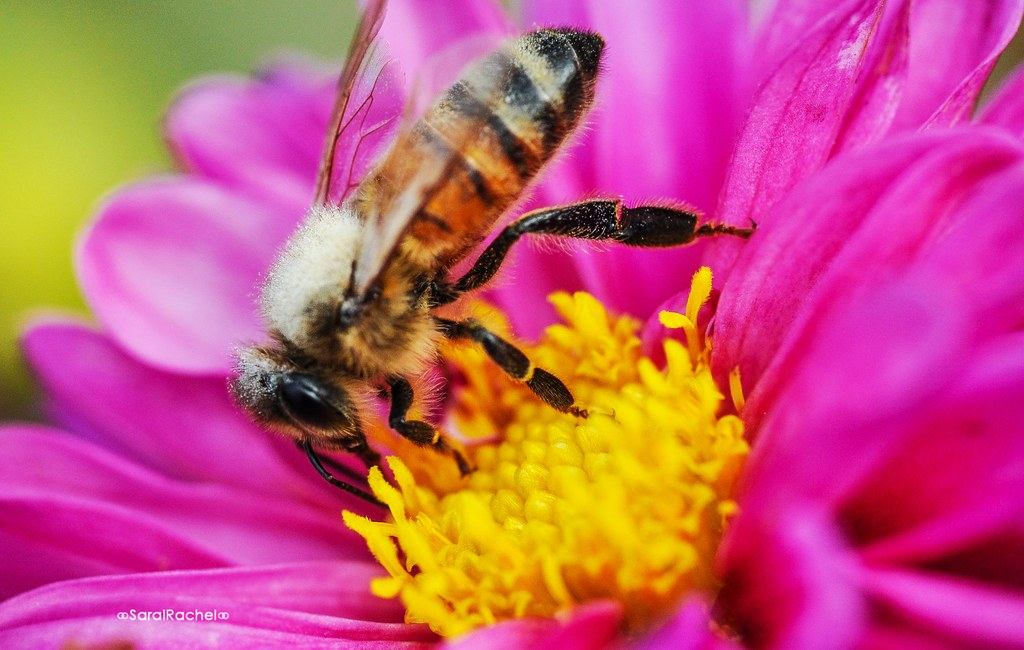bee: (210, 21, 712, 564)
insect: (0, 0, 1023, 649)
